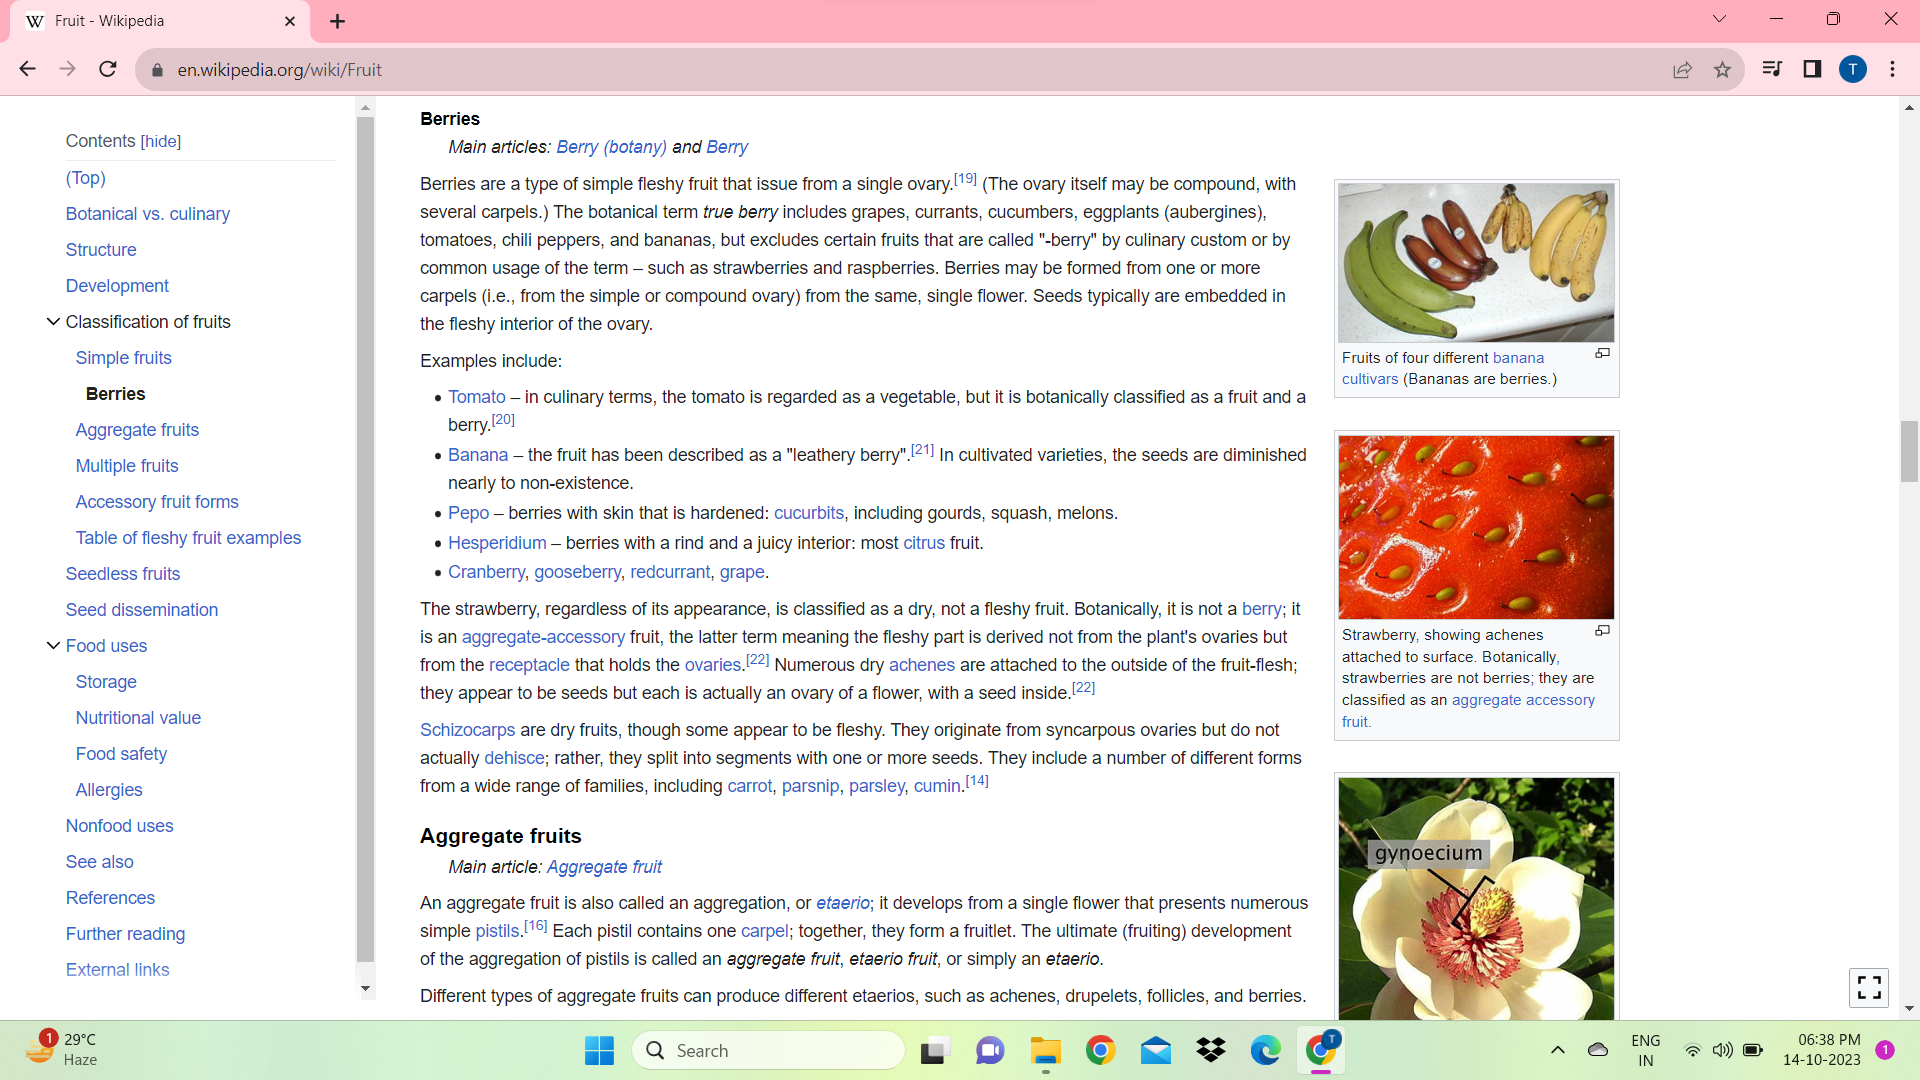Image: (1331, 773, 1625, 1018), (1331, 421, 1621, 625), (1329, 177, 1625, 345)
Paragraph: (447, 384, 1316, 587), (411, 177, 1299, 335), (417, 596, 1309, 709), (406, 889, 1316, 975), (423, 719, 1300, 807), (421, 990, 1309, 1005), (440, 136, 753, 162), (78, 522, 309, 554), (54, 589, 228, 625), (58, 115, 203, 157), (447, 855, 671, 878), (62, 306, 233, 336), (414, 343, 572, 373), (421, 820, 584, 848), (61, 554, 194, 587), (65, 203, 237, 228), (71, 703, 214, 732), (67, 916, 193, 949), (71, 495, 241, 518), (65, 448, 187, 479), (71, 414, 204, 442), (57, 269, 179, 298), (58, 951, 179, 980), (58, 880, 164, 913), (61, 815, 177, 844), (74, 767, 149, 807), (67, 345, 181, 371), (65, 630, 160, 658), (50, 240, 140, 264), (82, 376, 153, 404), (69, 742, 175, 761), (54, 162, 115, 194), (74, 669, 146, 695), (411, 105, 489, 129), (58, 851, 145, 872)
